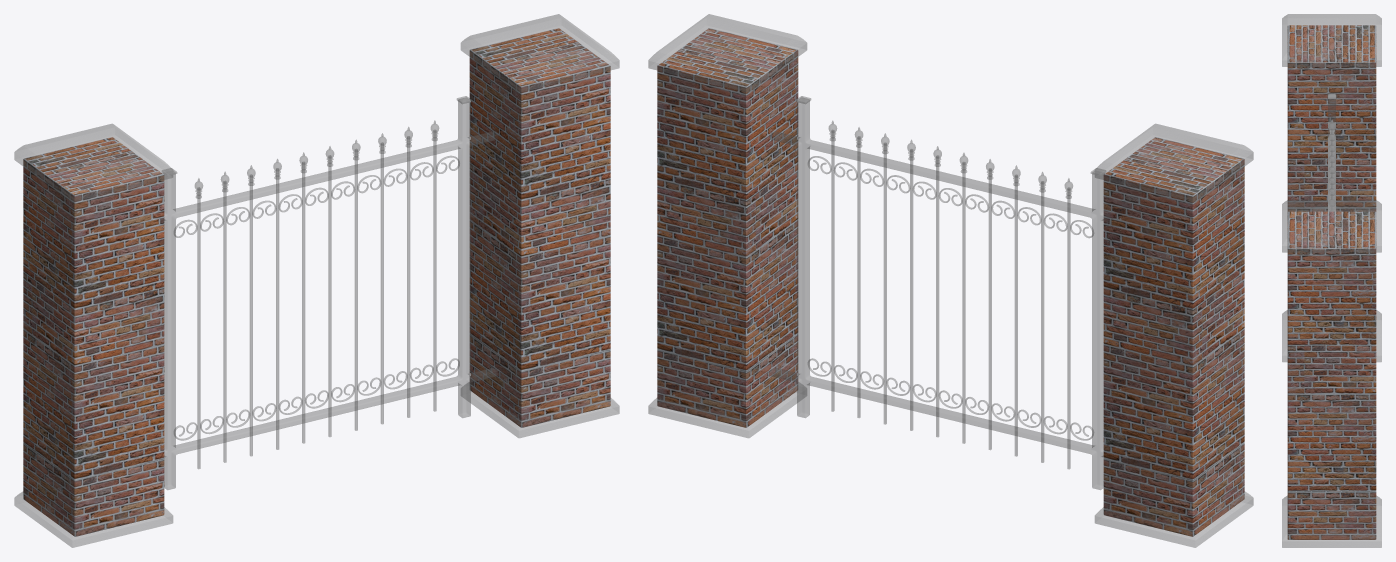
File: fence.glb
The picture shows the model from 3 angles, left to right: view 1: azimuth 30°, elevation 25°; view 2: azimuth 150°, elevation 25°; view 3: azimuth 270°, elevation 25°; orthographic projection. The views are drawn at different scales.
Visible parts, largest first — view 1: 13080_Wrought_Iron_fence_with_brick_v1_L2; view 2: 13080_Wrought_Iron_fence_with_brick_v1_L2; view 3: 13080_Wrought_Iron_fence_with_brick_v1_L2.
Boxes of the visible parts, left/top/right/bottom form: 13080_Wrought_Iron_fence_with_brick_v1_L2: left=14, top=14, right=619, bottom=547; 13080_Wrought_Iron_fence_with_brick_v1_L2: left=648, top=14, right=1253, bottom=547; 13080_Wrought_Iron_fence_with_brick_v1_L2: left=1282, top=14, right=1381, bottom=547.
Bounding box in the file's own units: 3.39 × 2.14 × 0.6264.
3 materials, 2 textured.
